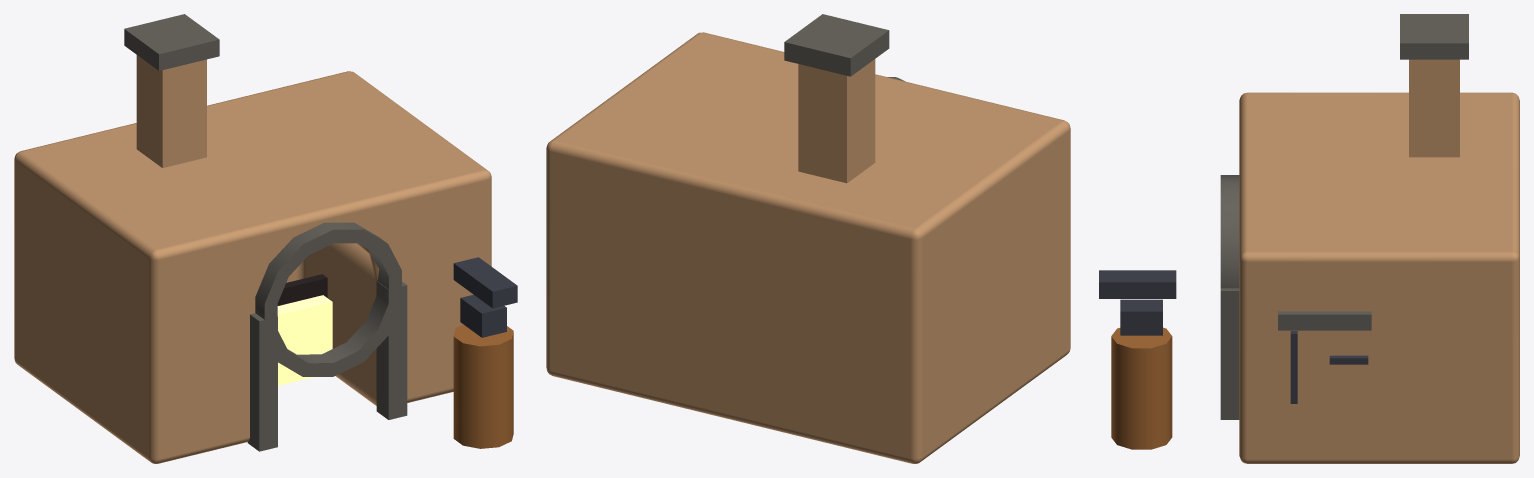
The model's file is Buildings__smithy.glb.
The picture shows the model from 3 angles, left to right: view 1: azimuth 30°, elevation 25°; view 2: azimuth 150°, elevation 25°; view 3: azimuth 270°, elevation 25°; orthographic projection. The views are drawn at different scales.
Visible parts, largest first — view 1: smithy_mesh; view 2: smithy_mesh; view 3: smithy_mesh.
Part boxes in pixels (x1=…): smithy_mesh: x1=14, y1=14, x2=517, y2=463; smithy_mesh: x1=546, y1=14, x2=1070, y2=463; smithy_mesh: x1=1099, y1=14, x2=1519, y2=463.
Size of the model in its own units: 2 by 1.79 by 2.07.
